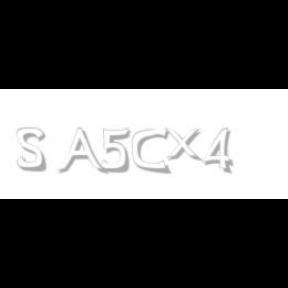4: (202, 128, 234, 174)
5: (100, 128, 130, 174)
A: (57, 128, 105, 176)
C: (132, 128, 170, 174)
S: (16, 128, 48, 172)
x: (164, 128, 206, 162)
